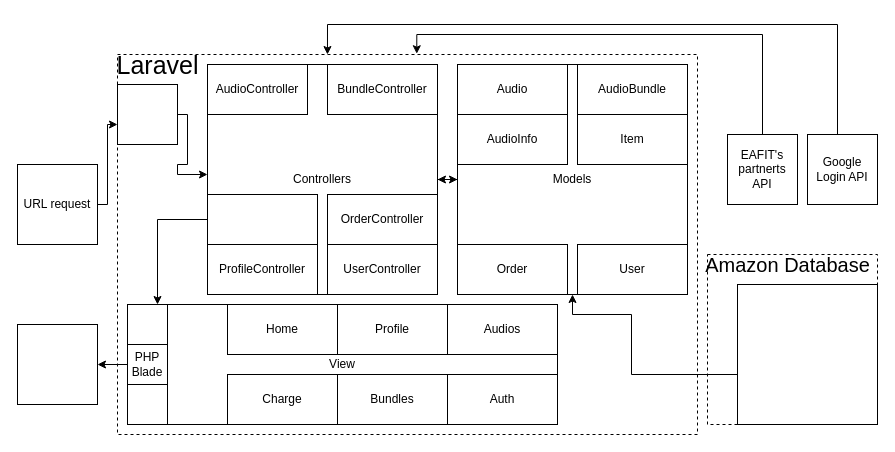
Image size: 895x452. Some labels were removed from this diagram. Each missing label, with the centre of its shape:
CSS: the point at 147,404
JS: the point at 147,324
LangController: the point at 262,219
MySQL: the point at 807,354
Response: the point at 57,364
Routing: the point at 147,114
